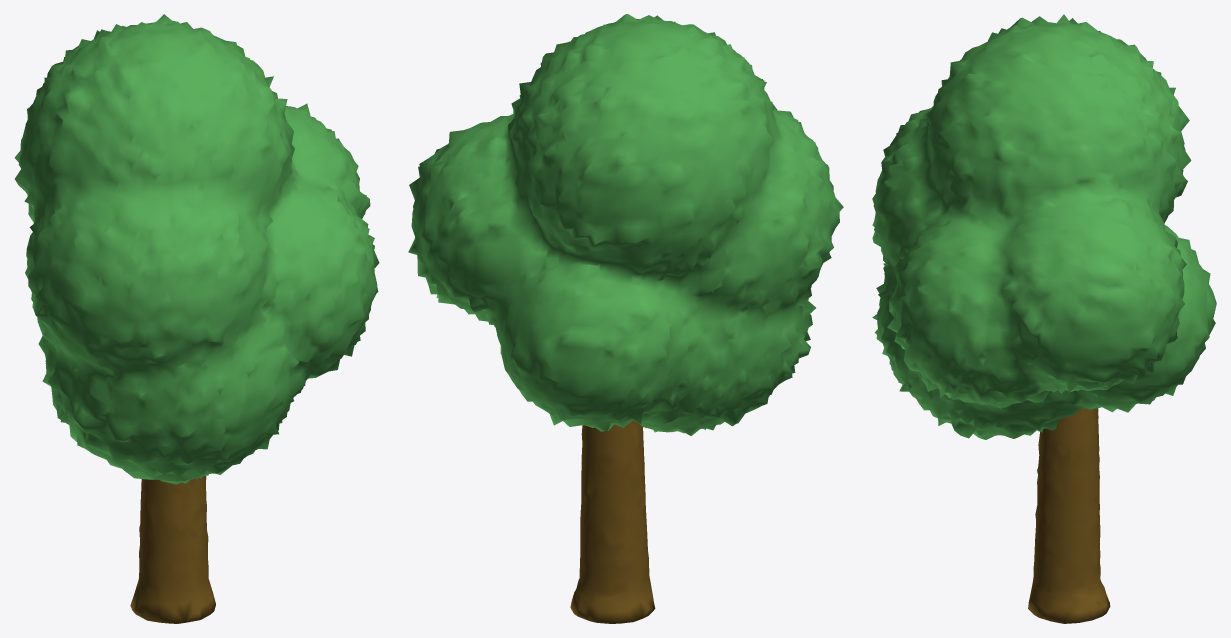
File: BestTree.fbx
The picture shows the model from 3 angles, left to right: view 1: azimuth 30°, elevation 25°; view 2: azimuth 150°, elevation 25°; view 3: azimuth 270°, elevation 25°; orthographic projection. The views are drawn at different scales.
Visible parts, largest first — view 1: Tree_LOD0; view 2: Tree_LOD0; view 3: Tree_LOD0.
Boxes of the visible parts, <box> form: Tree_LOD0: <box>14,14,379,623</box>; Tree_LOD0: <box>408,14,843,623</box>; Tree_LOD0: <box>872,14,1216,623</box>.
Size of what is drawn, in the model's own units: 4.99 by 7.78 by 4.31.
